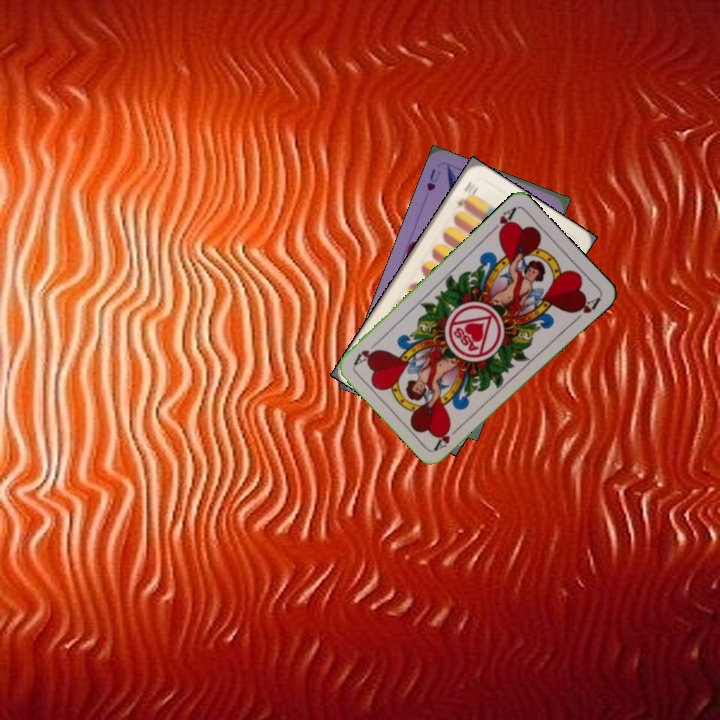E10: (453, 177, 479, 209)
HA: (486, 203, 519, 239), (430, 421, 464, 453)
HU: (423, 165, 443, 193)
